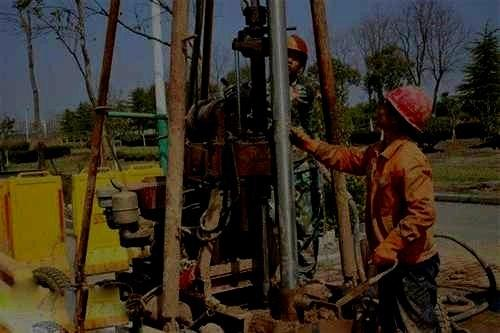helmet: (376, 84, 433, 136), (286, 34, 309, 77)
